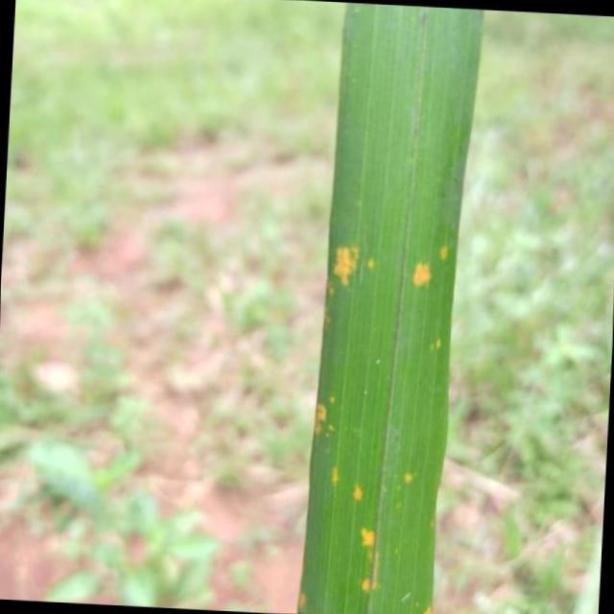Kalium: (296, 0, 486, 614)
